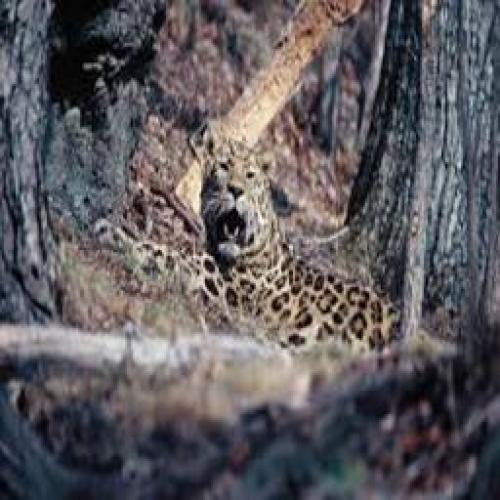amur_leopard-endangered: (94, 130, 400, 348)
